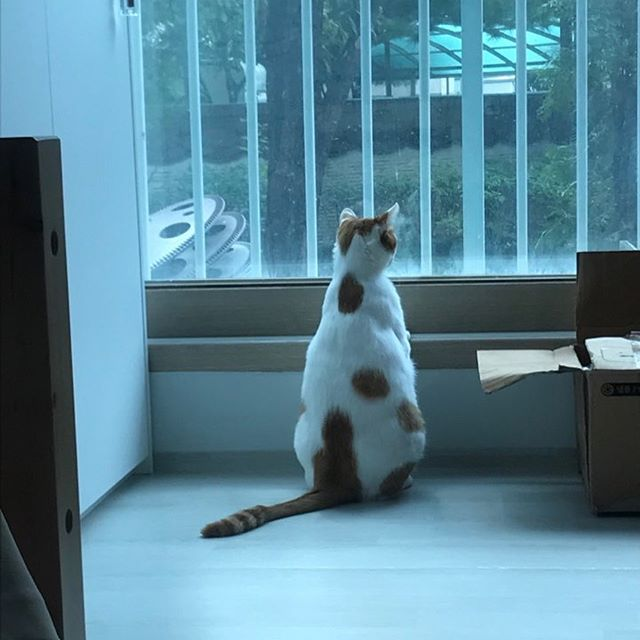cat: (332, 203, 407, 278)
